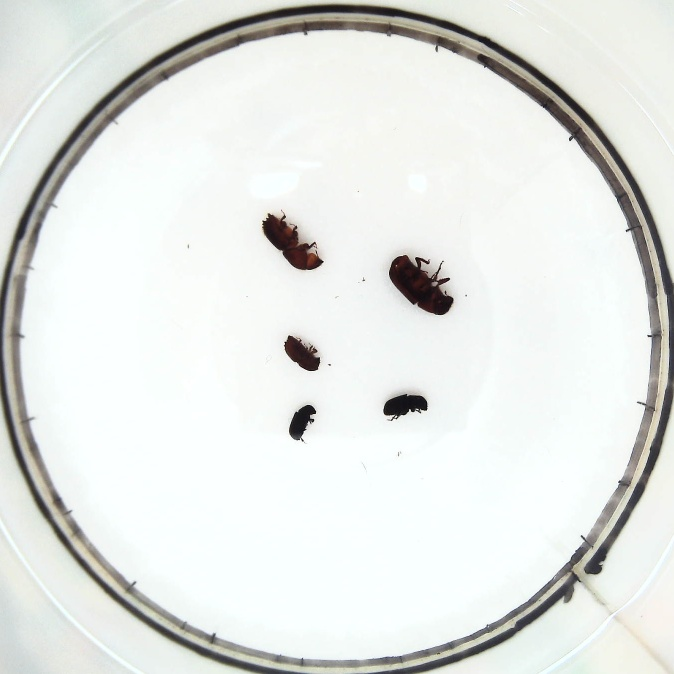armandi: (380, 392, 430, 423)
boerner: (262, 208, 324, 274)
coleoptera: (287, 402, 318, 444)
leconte: (388, 250, 457, 317)
linnaeus: (282, 333, 325, 373)
